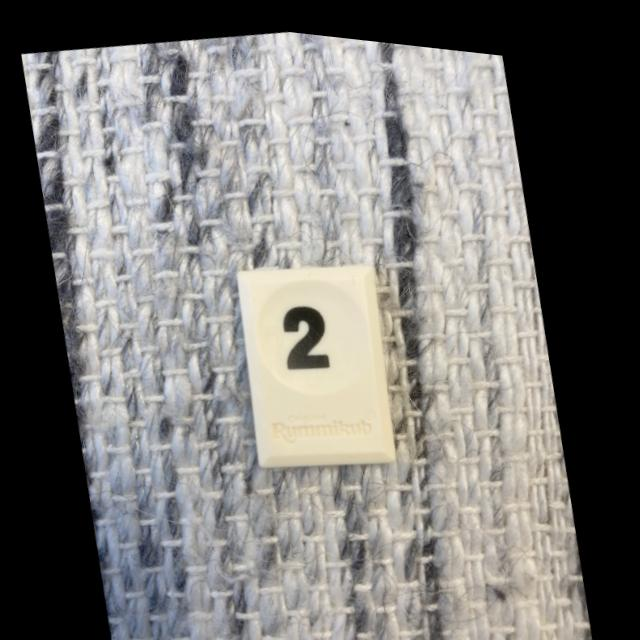black_2: (239, 257, 398, 461)
